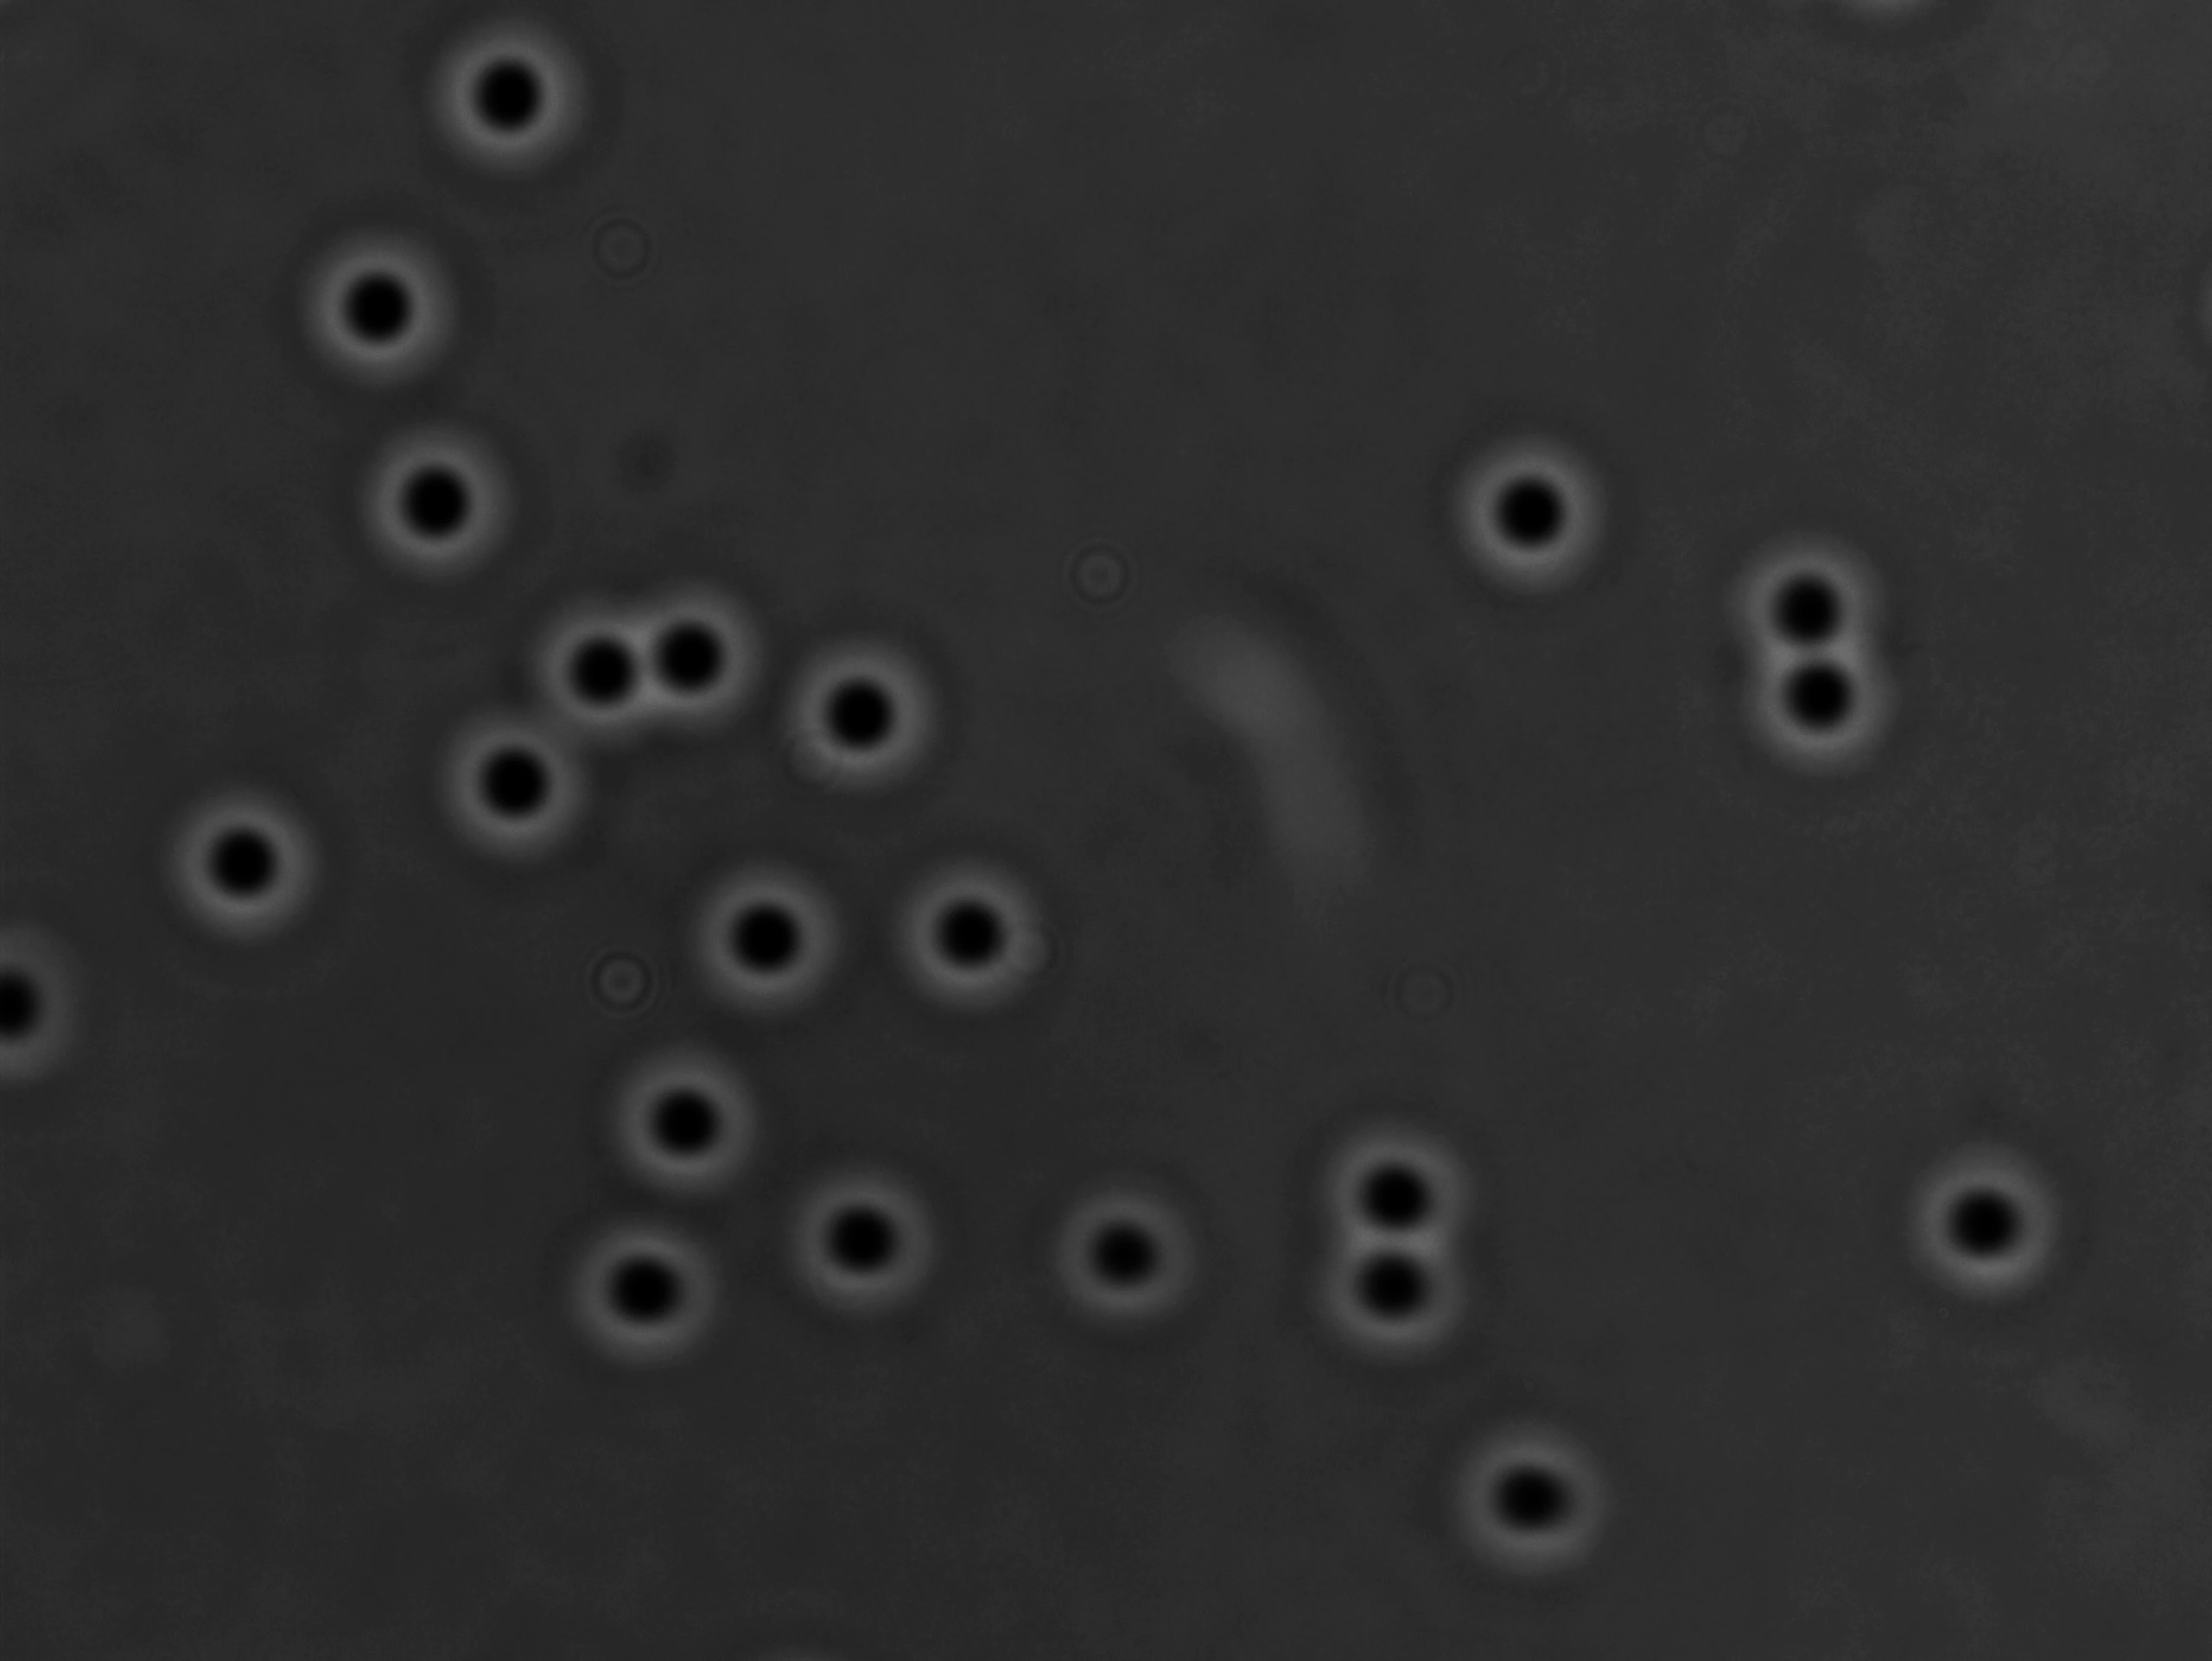depth:-80: (1884, 1125, 2104, 1340), (595, 1022, 808, 1220), (1436, 419, 1643, 619), (668, 822, 870, 1021), (1293, 1207, 1500, 1394), (1301, 1085, 1499, 1281), (274, 216, 487, 394), (1436, 1413, 1631, 1607), (550, 1199, 748, 1389), (762, 607, 956, 801), (497, 560, 687, 757), (1717, 515, 1921, 696), (1725, 623, 1929, 801), (879, 827, 1071, 1015), (776, 1164, 968, 1349), (148, 771, 349, 947), (612, 558, 799, 743), (340, 415, 534, 593), (1041, 1164, 1230, 1345), (420, 0, 611, 180), (420, 701, 600, 865)
